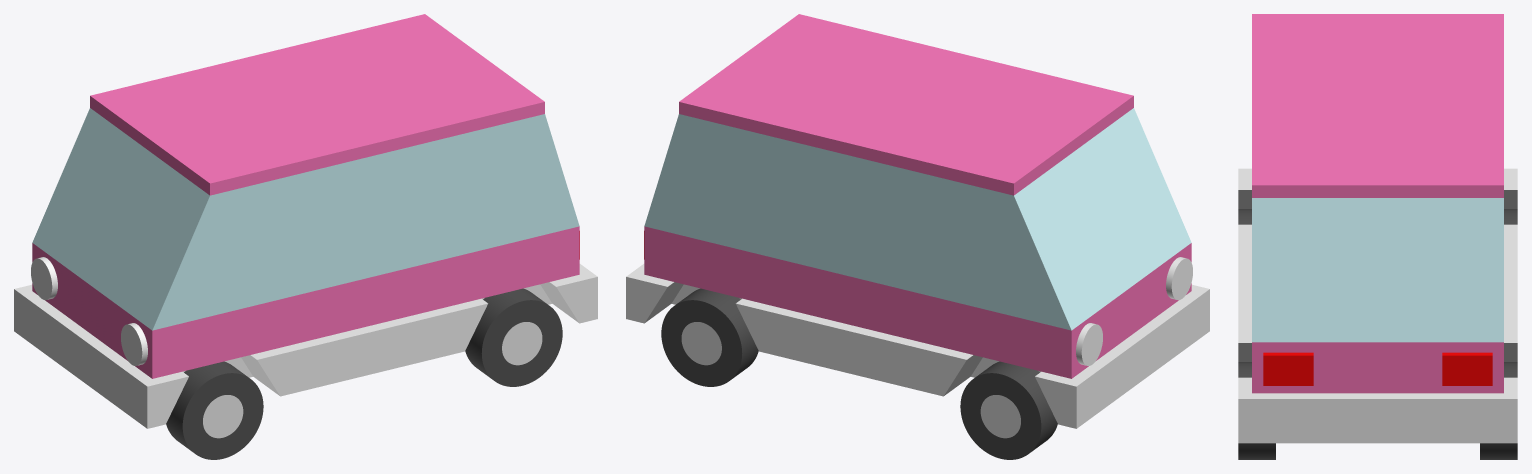
Rendered from stylized-mini-bus.glb.
3 views of the same model, side by side, from view 1: azimuth 30°, elevation 25°; view 2: azimuth 150°, elevation 25°; view 3: azimuth 270°, elevation 25° (orthographic). The views are drawn at different scales.
Size of the model in its own units: 3.9 by 2.25 by 2.
